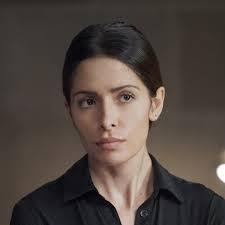Persons: (54, 19, 169, 182)
